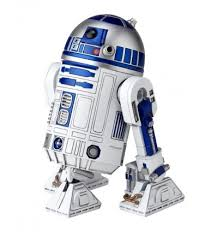r2d2: (41, 14, 185, 217)
